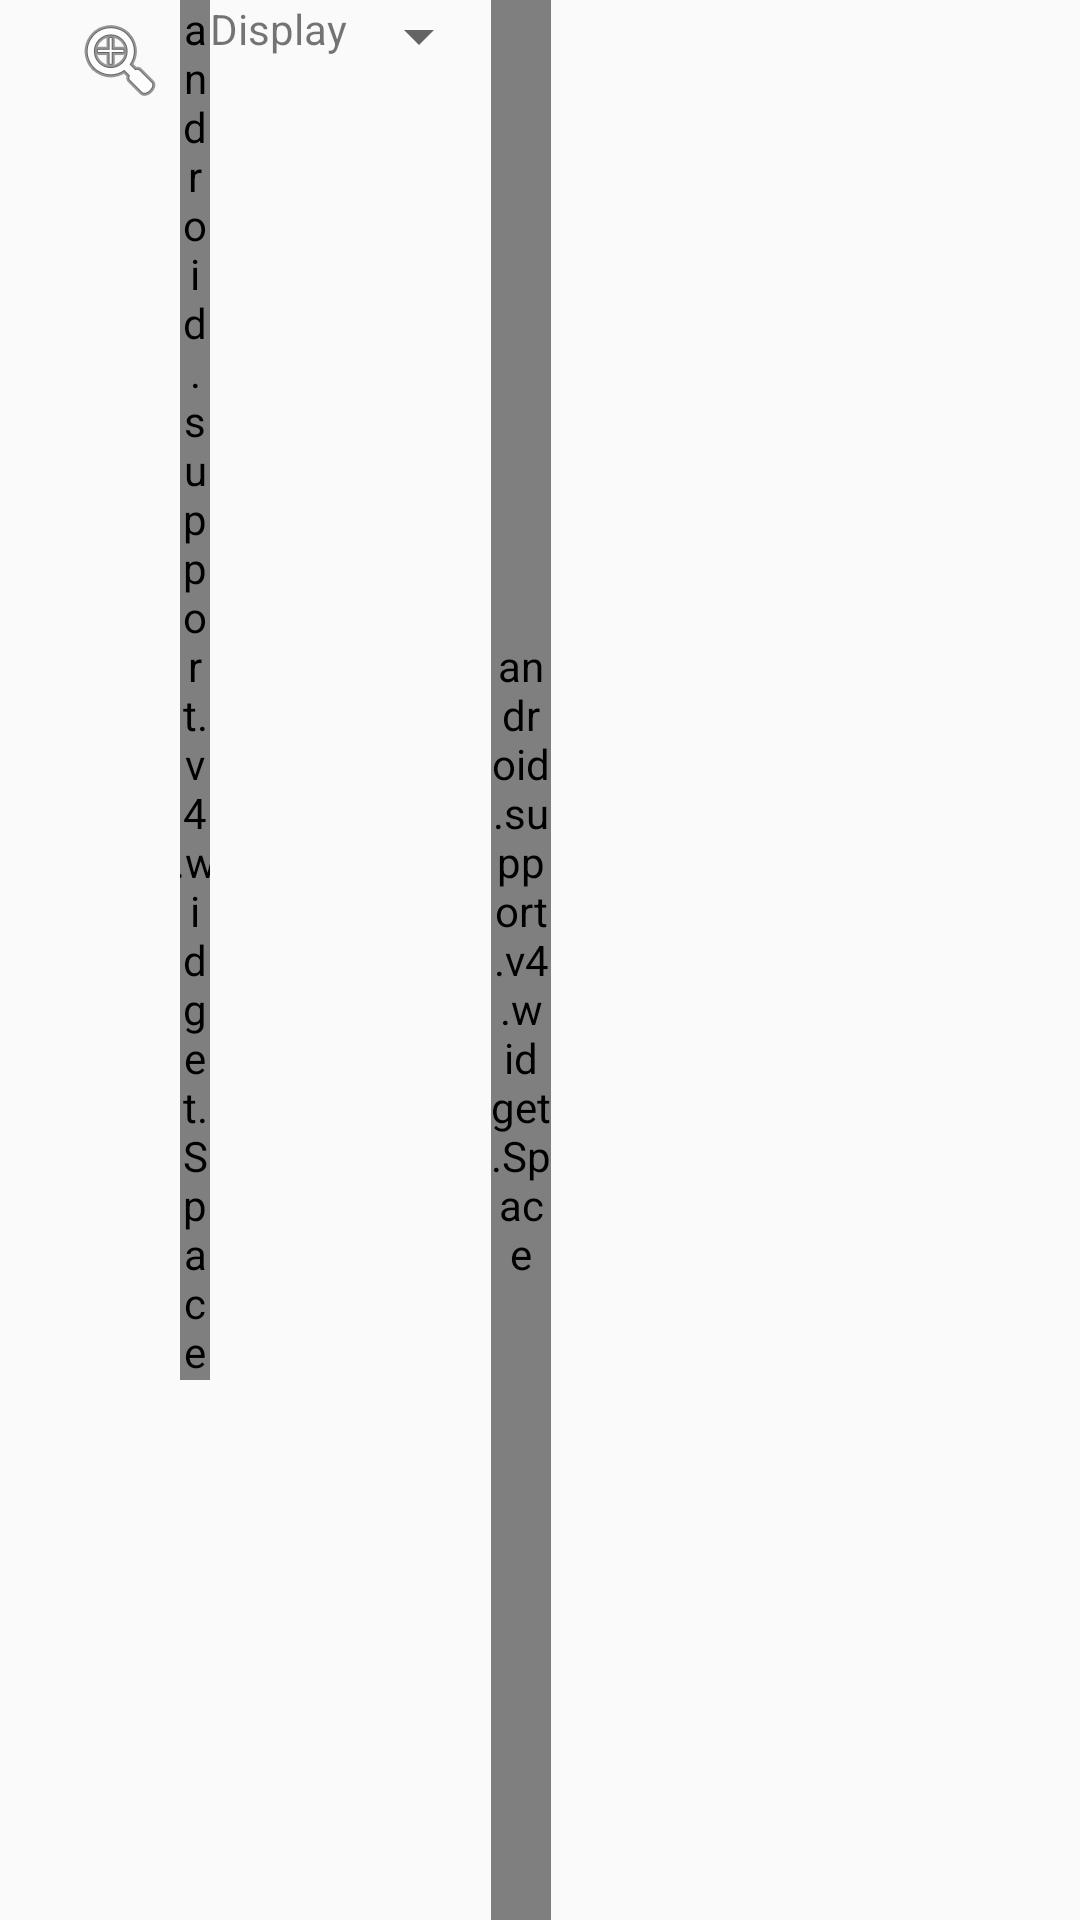

Where to tap for icons on this 1080*1920 app screen, as (x=x, y=y):
Zoom: (x=120, y=60)
